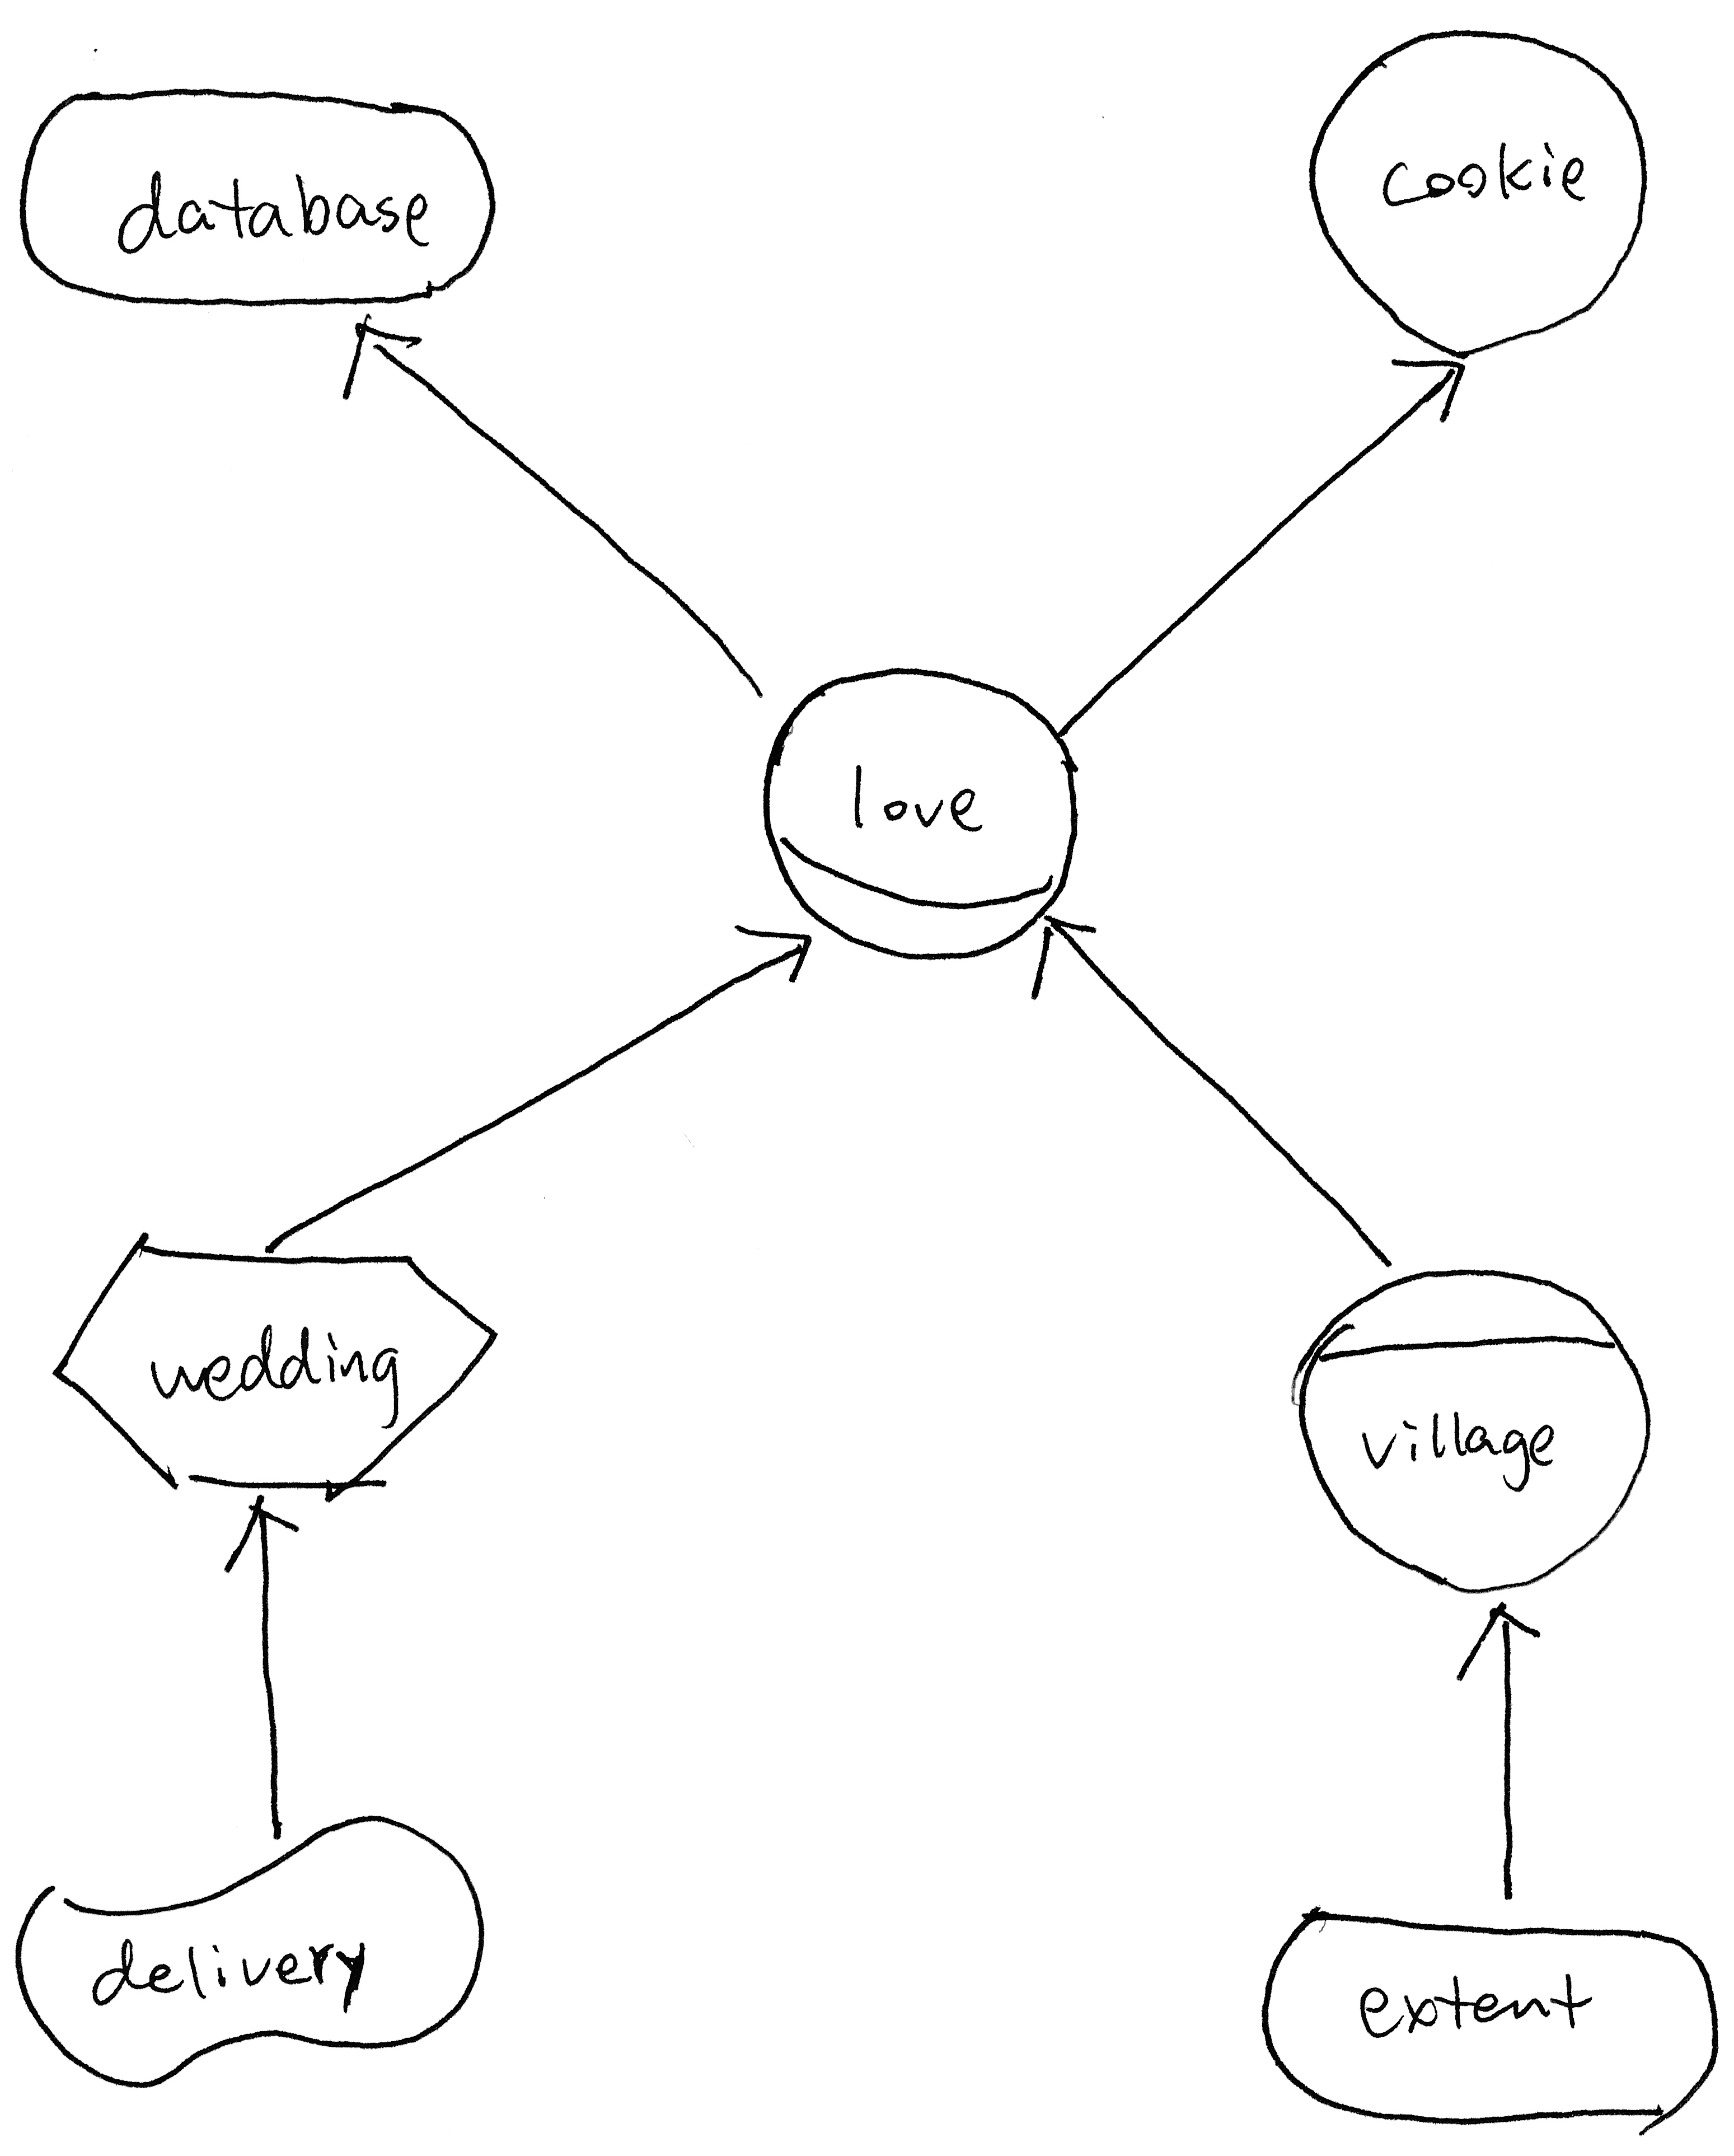actor: (1290, 14, 1663, 368)
agent: (1272, 1239, 1674, 1600)
arrow: (1431, 1586, 1569, 1698), (315, 292, 448, 404), (1362, 338, 1495, 443), (998, 889, 1120, 1002), (722, 901, 839, 1005), (198, 1494, 320, 1581)
goal: (11, 64, 513, 338), (1239, 1880, 1734, 2151)
quality: (4, 1784, 510, 2098)
role: (740, 651, 1092, 993)
task: (42, 1213, 527, 1519)
